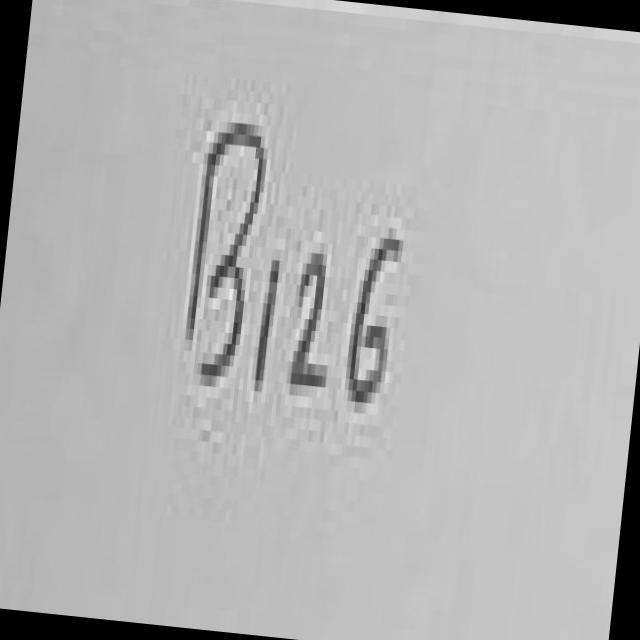1: (254, 260, 281, 386)
2: (290, 253, 325, 382)
6: (350, 239, 401, 397)
B: (190, 124, 266, 386)
